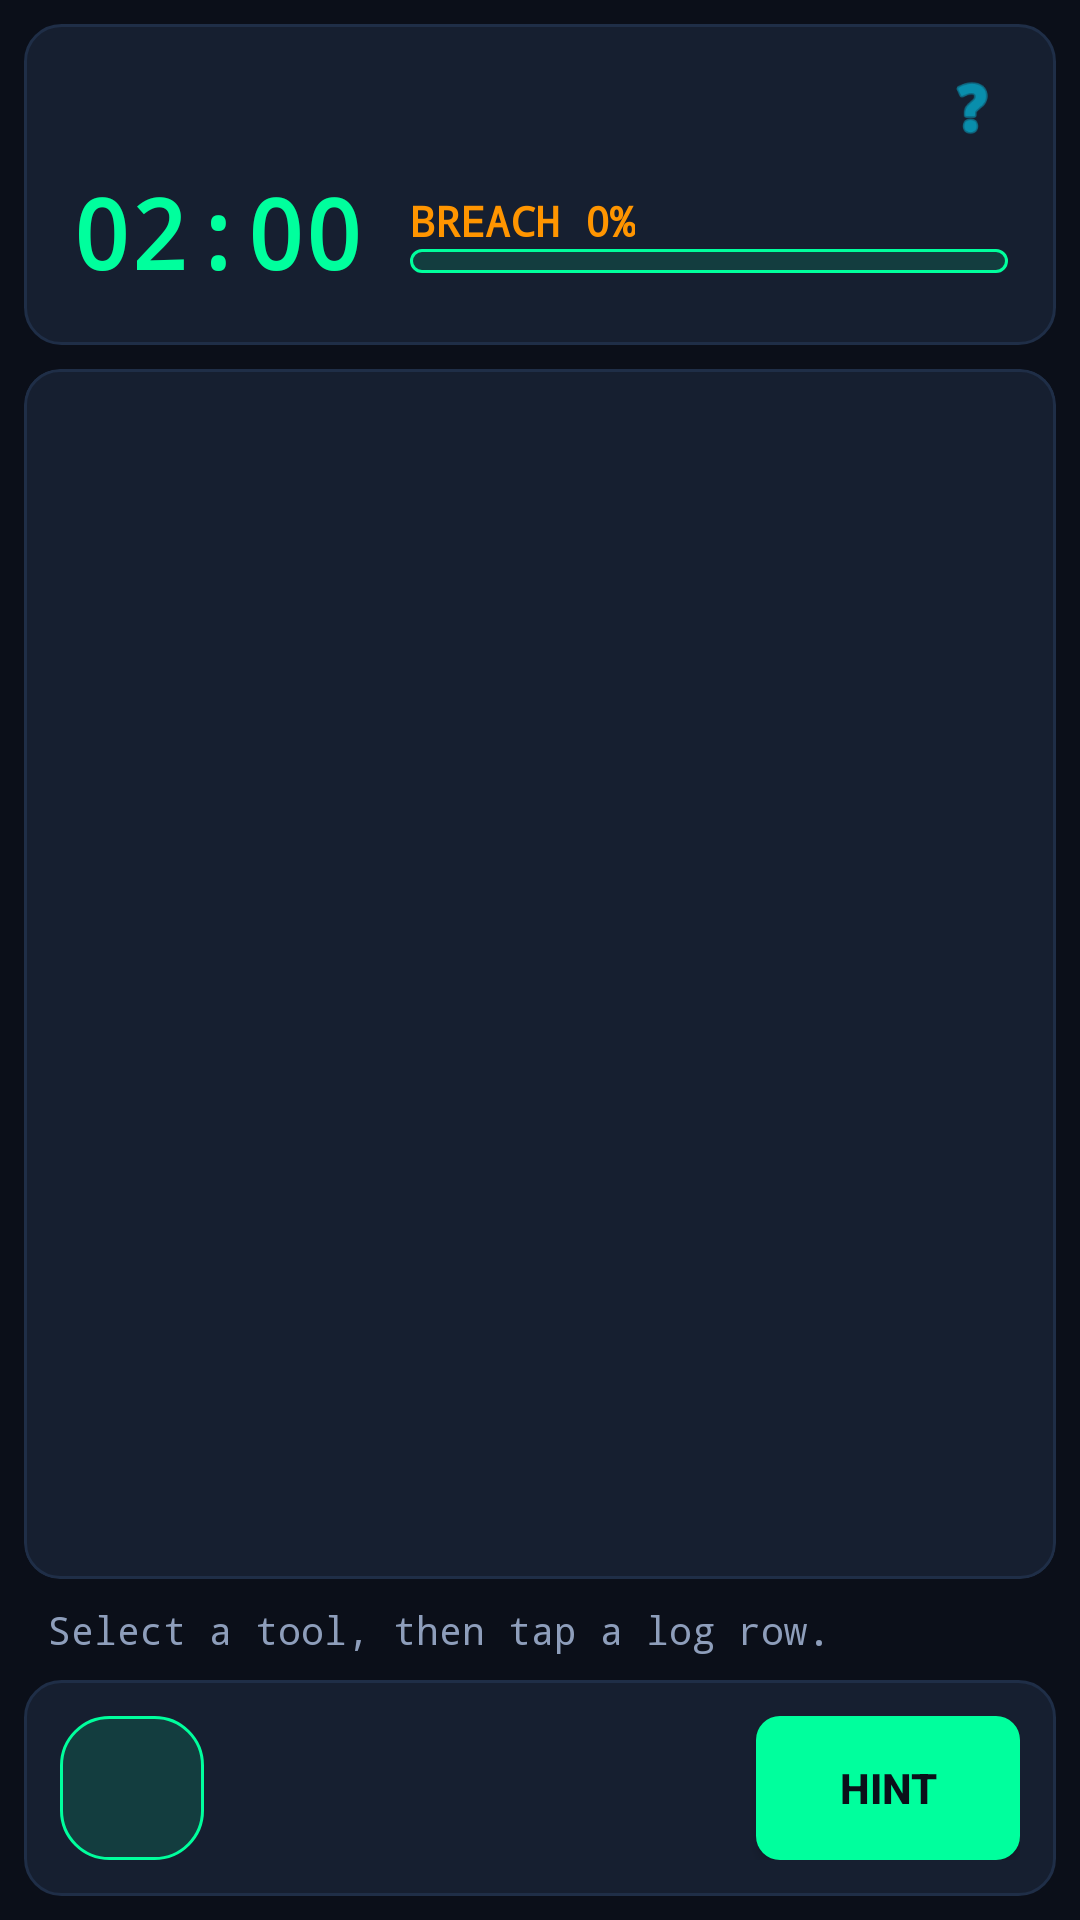

Where icons sit on this 1080 × 1920 app screen, as (x1, y1, x2, y2):
Help Cheat Sheet: (956, 82, 988, 134)
